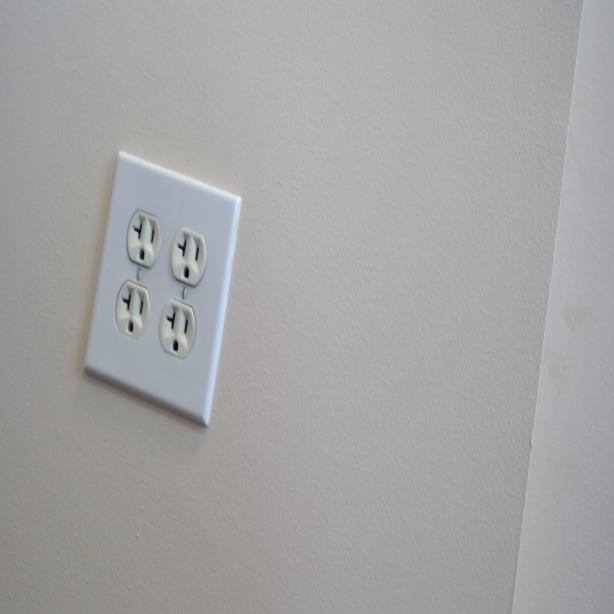typeb: (171, 223, 206, 287), (115, 279, 149, 341), (126, 206, 159, 268), (160, 301, 195, 357)
